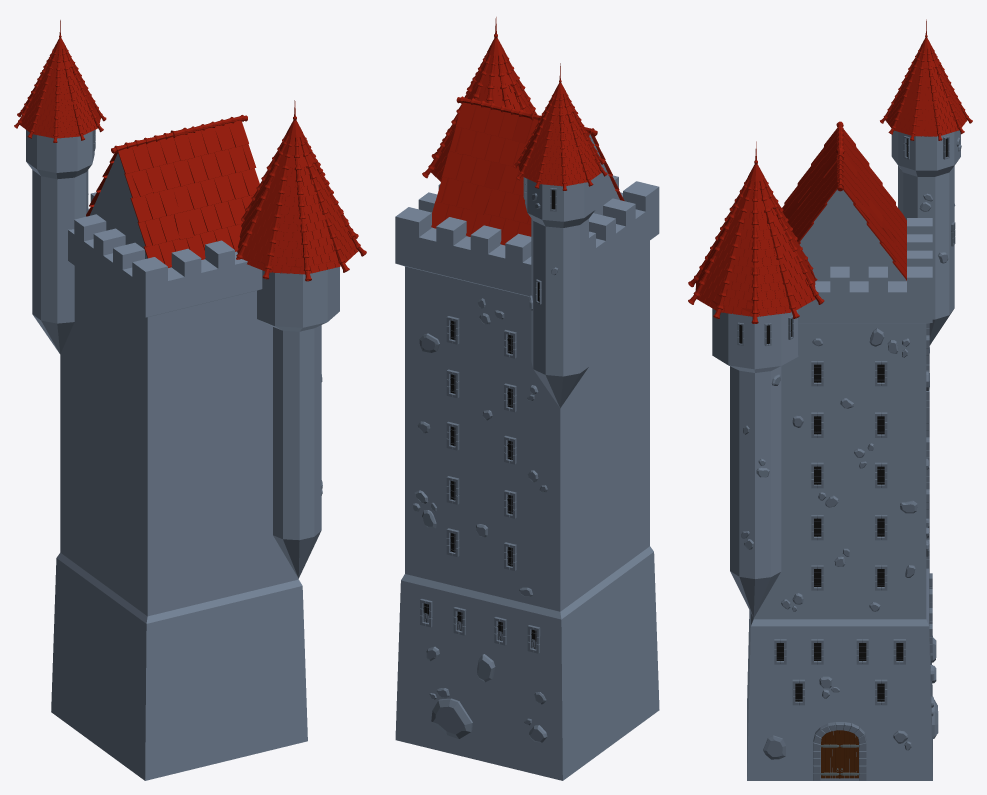
The model's file is DungeonMenu.fbx.
The picture shows the model from 3 angles, left to right: view 1: azimuth 30°, elevation 25°; view 2: azimuth 150°, elevation 25°; view 3: azimuth 270°, elevation 25°; orthographic projection. The views are drawn at different scales.
Visible parts, largest first — view 1: Circle, Cube.003, Cube.006, Cube.002; view 2: Circle, Cube.003, Cube.002, Cube.001, Cube.012, Cube.006; view 3: Circle, Cube.006, Cube.003, Cube.001, Cube.002, Cube.012, Plane, Cube, Cube.013.
Part boxes in pixels (bbox=[...]): Circle: bbox=[26, 68, 354, 780]; Cube.003: bbox=[86, 115, 259, 267]; Cube.006: bbox=[236, 100, 366, 281]; Cube.002: bbox=[14, 20, 106, 142]; Circle: bbox=[395, 85, 659, 780]; Cube.003: bbox=[431, 96, 624, 244]; Cube.002: bbox=[513, 63, 607, 190]; Cube.001: bbox=[420, 316, 540, 653]; Cube.012: bbox=[413, 193, 558, 742]; Cube.006: bbox=[422, 17, 537, 181]; Circle: bbox=[706, 68, 960, 780]; Cube.006: bbox=[688, 141, 824, 323]; Cube.003: bbox=[782, 121, 906, 279]; Cube.001: bbox=[774, 323, 932, 705]; Cube.002: bbox=[880, 19, 972, 140]; Cube.012: bbox=[741, 137, 961, 759]; Plane: bbox=[820, 730, 859, 778]; Cube: bbox=[813, 722, 866, 780]; Cube.013: bbox=[737, 136, 955, 346].
Bounding box in the file's own units: 178 × 476 × 178.
1 material, 1 textured.
